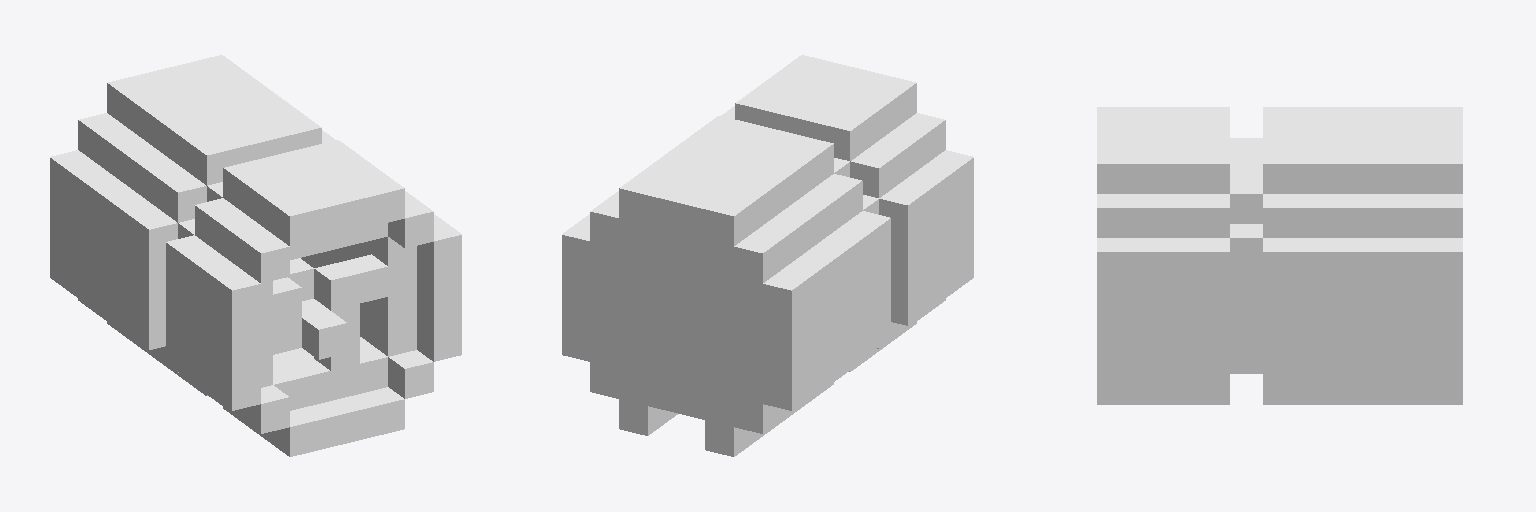
File: Extra-2-Transtellar_Turbine_R.obj
The picture shows the model from 3 angles: view 1: azimuth 30°, elevation 25°; view 2: azimuth 150°, elevation 25°; view 3: azimuth 270°, elevation 25°; orthographic projection.
Visible parts, largest first — view 1: Transtellar_Turbine_R; view 2: Transtellar_Turbine_R; view 3: Transtellar_Turbine_R.
Boxes of the visible parts, x1=… form: Transtellar_Turbine_R: x1=50, y1=55, x2=461, y2=456; Transtellar_Turbine_R: x1=562, y1=55, x2=973, y2=456; Transtellar_Turbine_R: x1=1097, y1=107, x2=1462, y2=404.
Bounding box in the file's own units: 0.8 × 0.8 × 1.1.